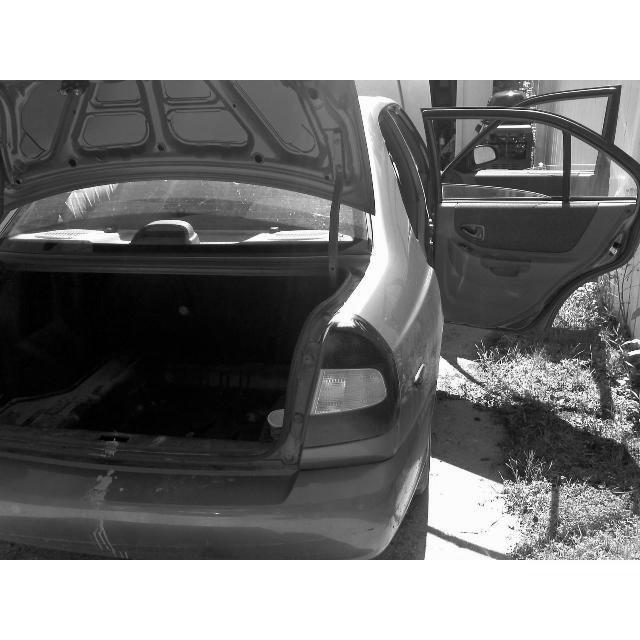rear-bumper-dent: (16, 479, 324, 557)
